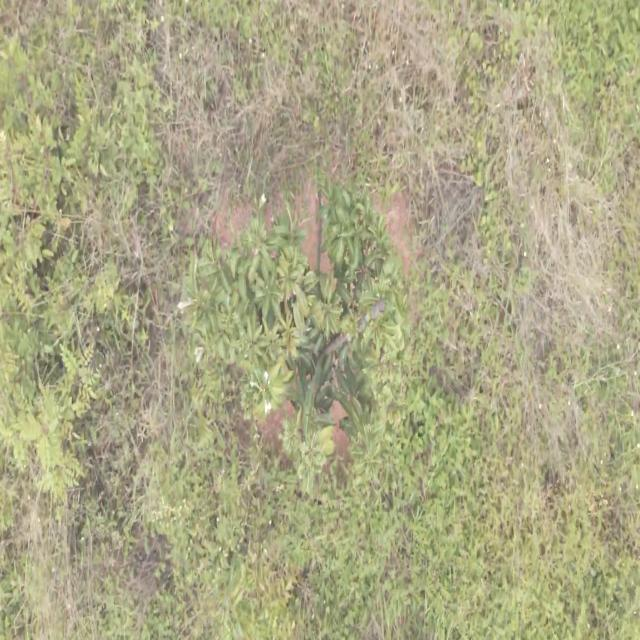mangoTree: (182, 173, 407, 488)
